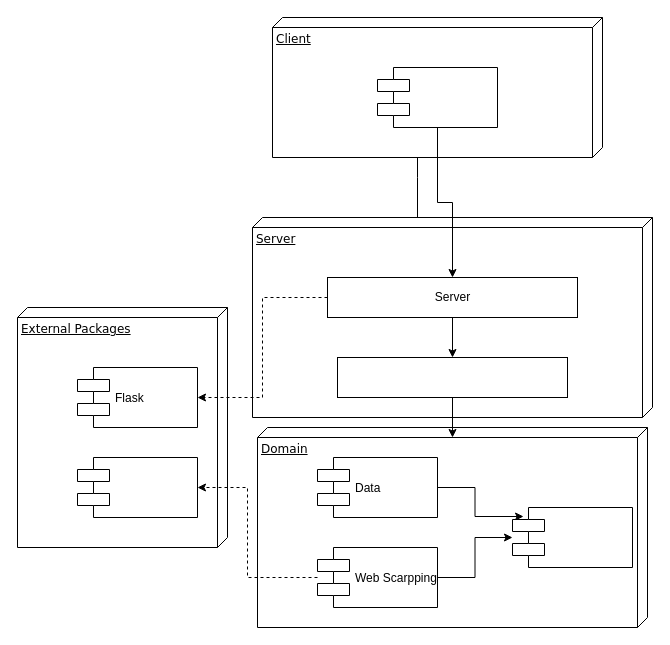
Some shapes in this 670 by 645 pixel diagram are drawn without their labels. The shapes that lost their labels are listed below. From the top down, each one's centre as x and y in pixels, then its label:
At point 437,97: "WebSite".
At point 452,377: "Service - Facade".
At point 137,487: "Beautiful Soup".
At point 572,537: "Csv Loader".
